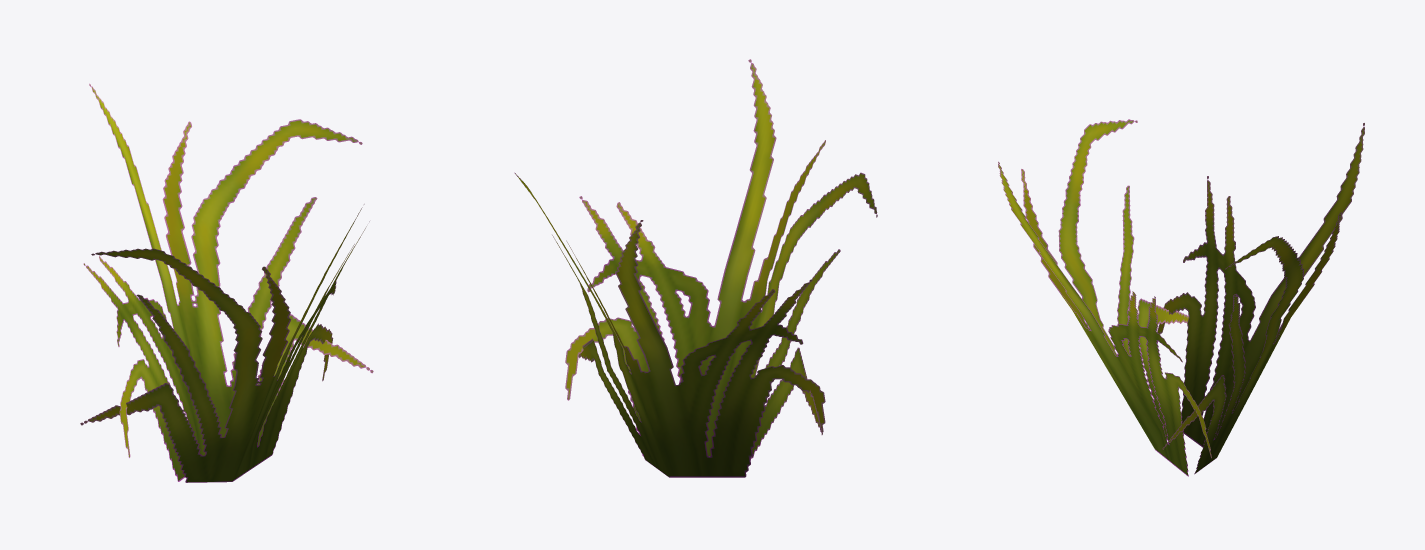
The model's file is n_SWTgrass02a.glb.
3 renders of one model, left to right at view 1: azimuth 30°, elevation 25°; view 2: azimuth 150°, elevation 25°; view 3: azimuth 270°, elevation 25°, orthographic. The views are drawn at different scales.
Parts seen in each view (by area): view 1: n_SWTgrass02a; view 2: n_SWTgrass02a; view 3: n_SWTgrass02a.
Boxes of the visible parts, <box> form: n_SWTgrass02a: <box>80,83,373,482</box>; n_SWTgrass02a: <box>514,59,877,477</box>; n_SWTgrass02a: <box>998,119,1364,476</box>.
Bounding box in the file's own units: 0.408 × 0.416 × 0.483.
1 material, 1 textured.
